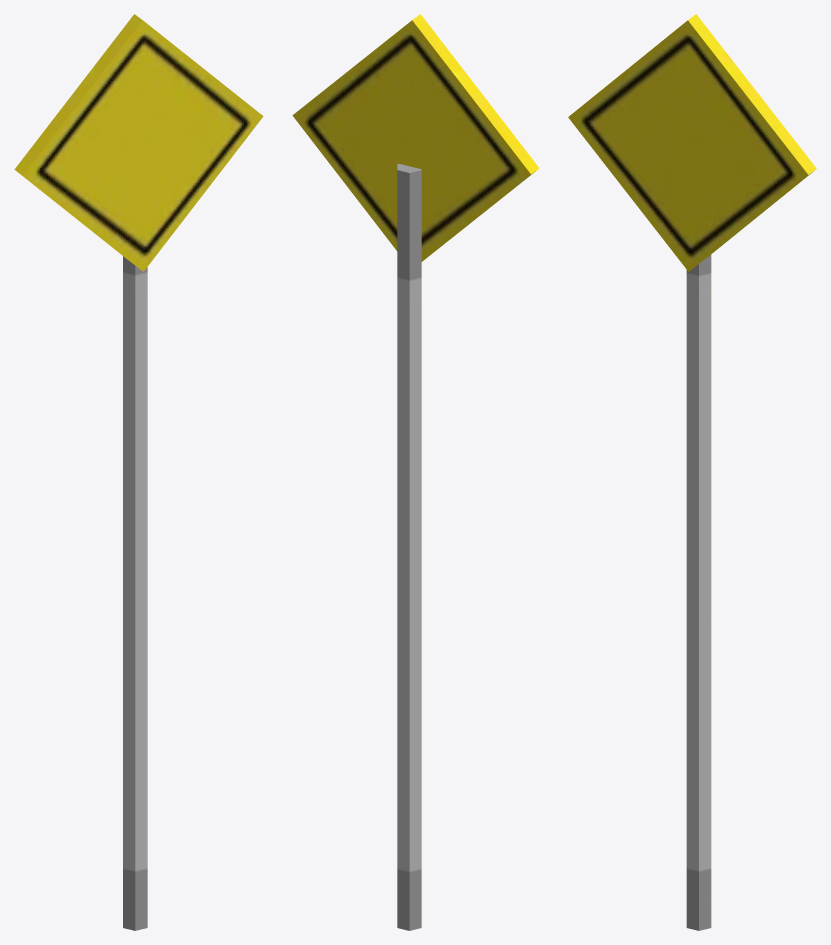
The model's file is city_sign_04.glb.
3 renders of one model, left to right at view 1: azimuth 30°, elevation 25°; view 2: azimuth 150°, elevation 25°; view 3: azimuth 330°, elevation 25°, orthographic.
Parts seen in each view (by area): view 1: city:polySurface318; view 2: city:polySurface318; view 3: city:polySurface318.
Part boxes in pixels (bbox=[...]): city:polySurface318: bbox=[14, 14, 263, 930]; city:polySurface318: bbox=[292, 14, 539, 930]; city:polySurface318: bbox=[568, 14, 816, 930].
Bounding box in the file's own units: 0.7105 × 2.57 × 0.0792.
1 material, 1 textured.
